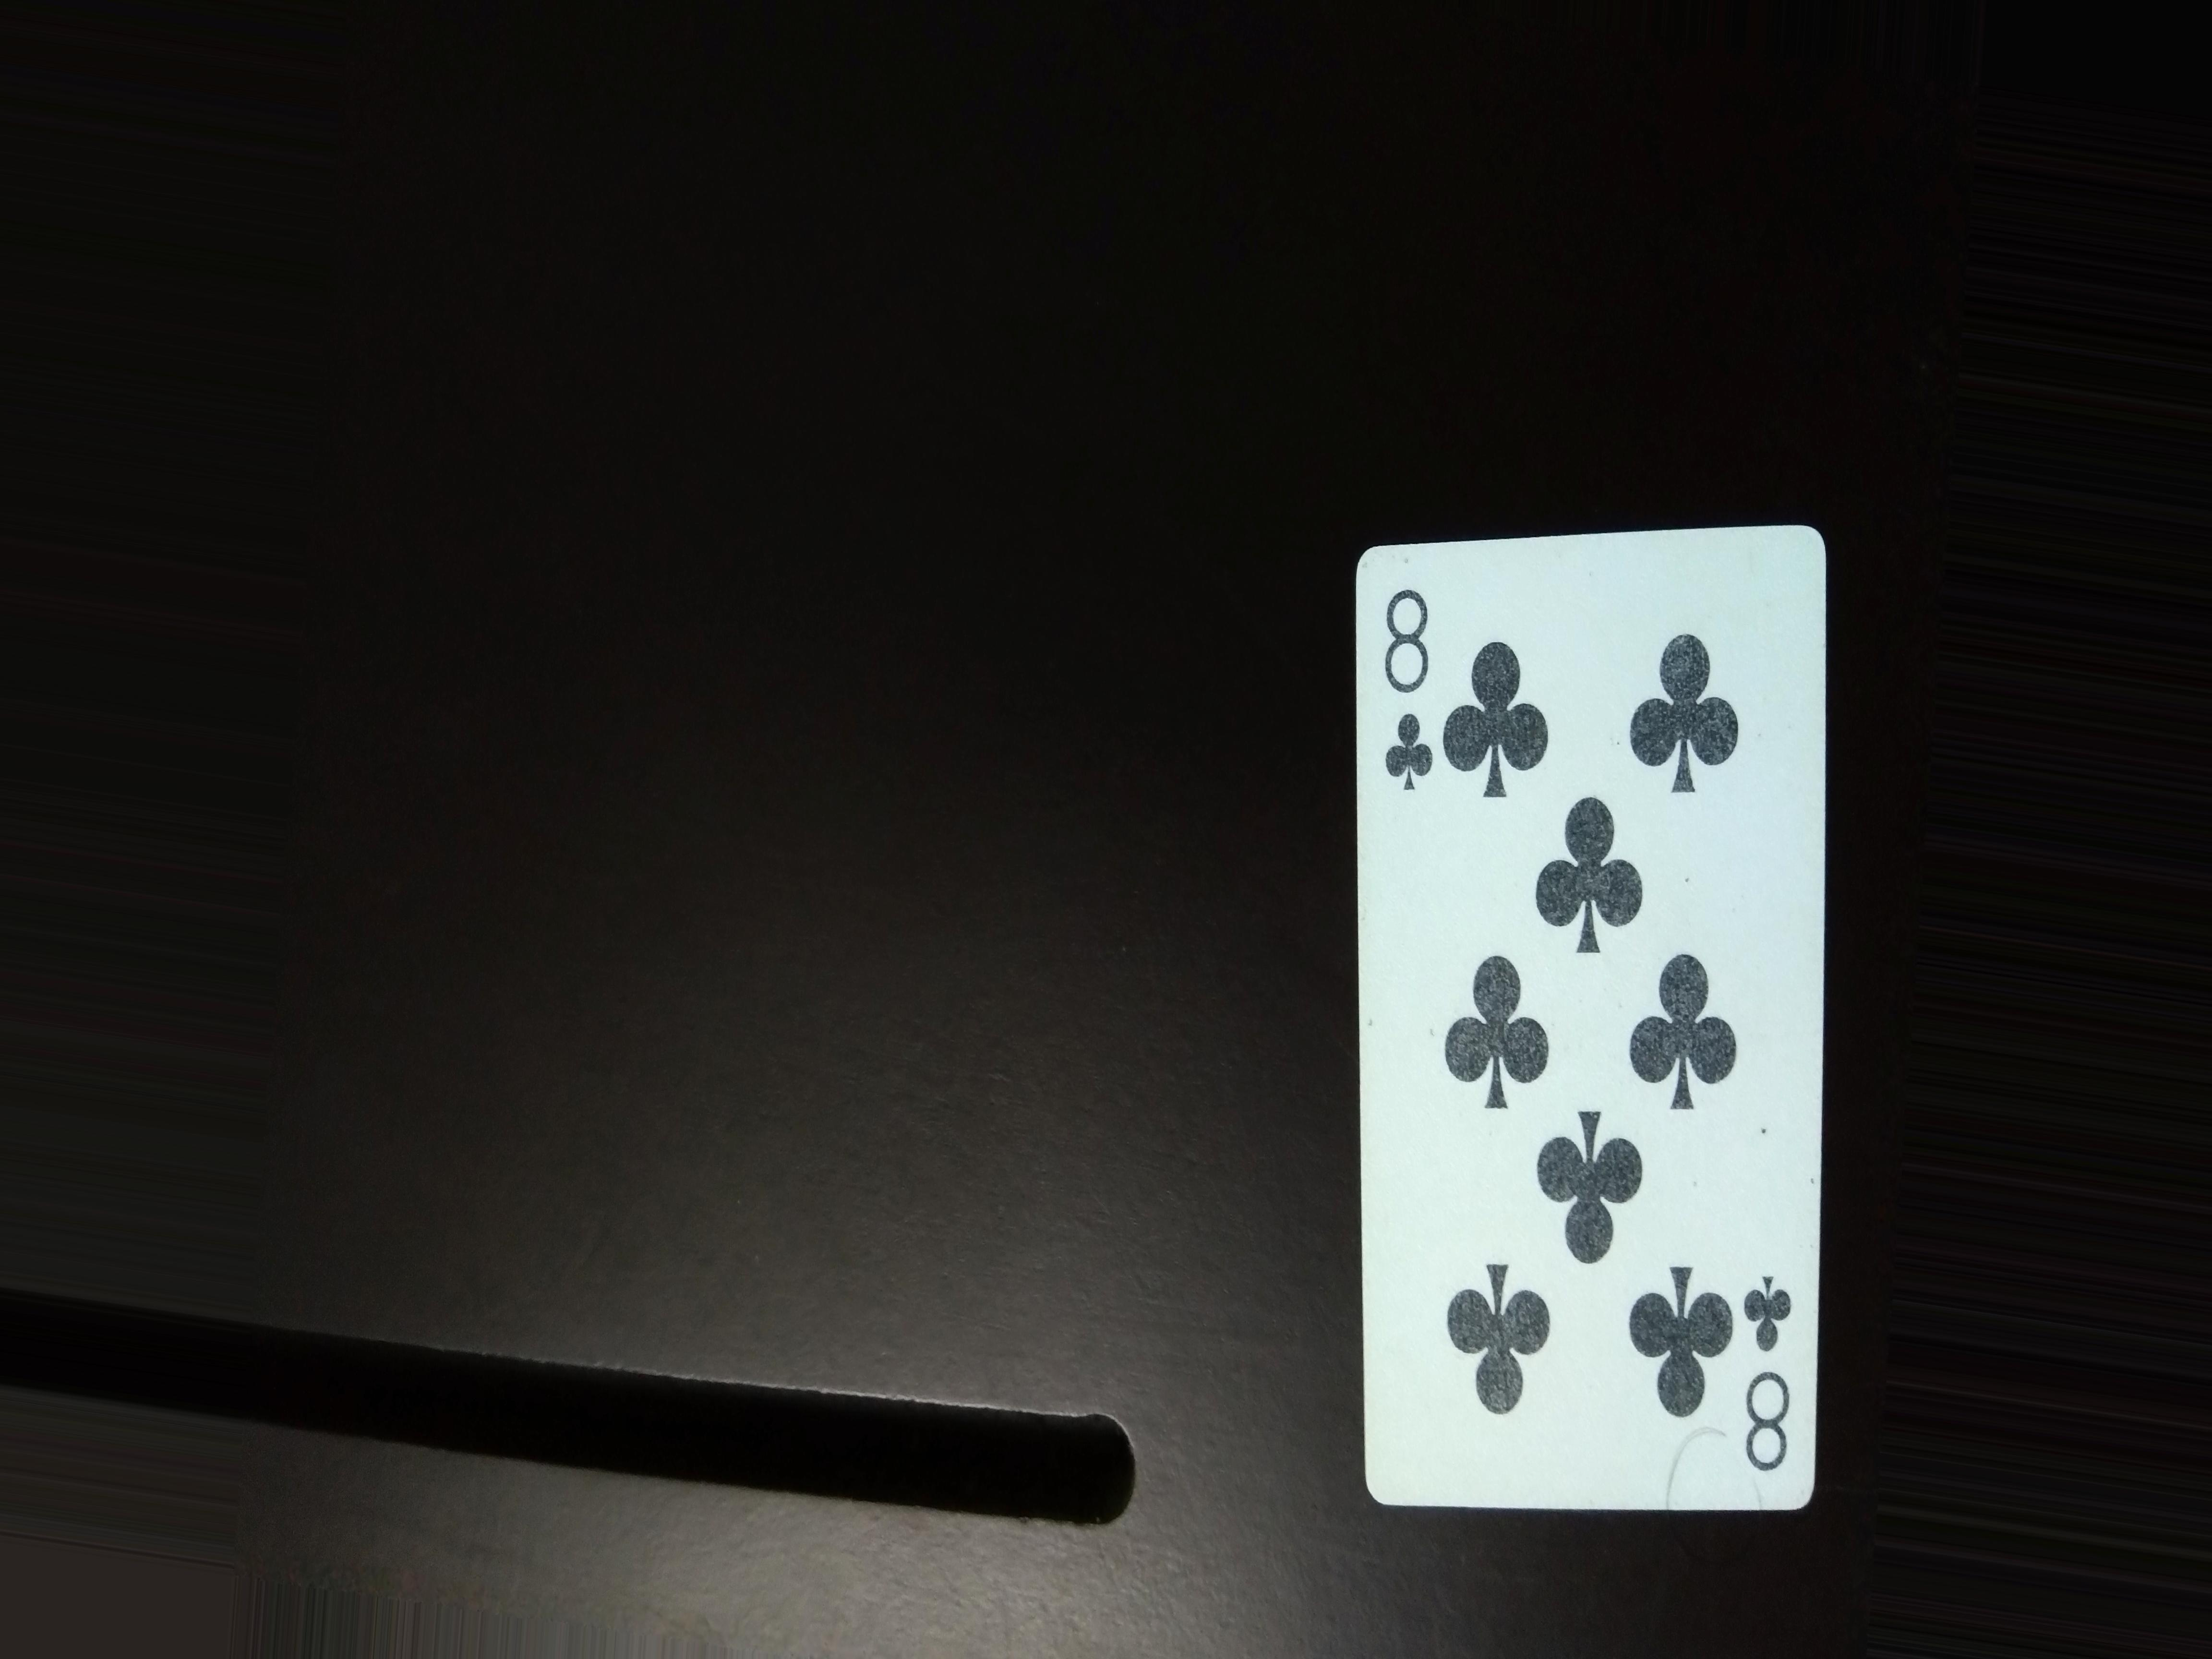8C: (1376, 566, 1442, 821)
